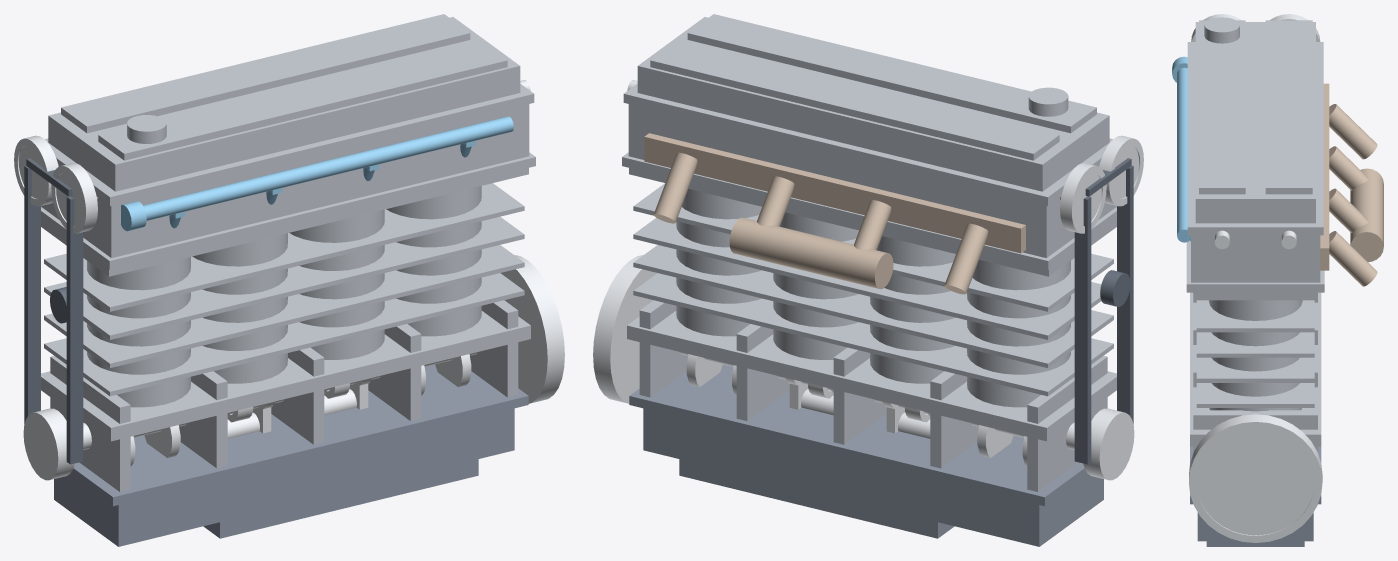
File: autoguard_i4_engine.glb
3 renders of one model, left to right at view 1: azimuth 30°, elevation 25°; view 2: azimuth 150°, elevation 25°; view 3: azimuth 270°, elevation 25°, orthographic. The views are drawn at different scales.
Parts seen in each view (by area): view 1: Engine_Block, Valve_Cover, Oil_Pan, Cylinder_Head, Crankshaft, Timing_Drive_Belt, Fuel_Rail, Camshaft_Intake, Camshaft_Exhaust; view 2: Engine_Block, Valve_Cover, Oil_Pan, Cylinder_Head, Exhaust_Manifold, Crankshaft, Timing_Drive_Belt, Camshaft_Exhaust, Camshaft_Intake; view 3: Valve_Cover, Engine_Block, Crankshaft, Cylinder_Head, Exhaust_Manifold, Fuel_Rail, Oil_Pan, Camshaft_Exhaust, Camshaft_Intake.
Part boxes in pixels (x1,y1,x2,y2): Engine_Block: [41, 168, 530, 491]; Valve_Cover: [48, 14, 520, 191]; Oil_Pan: [54, 364, 528, 546]; Cylinder_Head: [41, 84, 535, 269]; Crankshaft: [23, 255, 564, 480]; Timing_Drive_Belt: [24, 158, 83, 464]; Fuel_Rail: [121, 116, 513, 231]; Camshaft_Intake: [51, 80, 530, 233]; Camshaft_Exhaust: [14, 135, 58, 206]; Engine_Block: [627, 168, 1116, 491]; Valve_Cover: [637, 14, 1109, 191]; Oil_Pan: [629, 364, 1103, 546]; Cylinder_Head: [622, 84, 1116, 269]; Exhaust_Manifold: [644, 133, 1025, 294]; Crankshaft: [593, 255, 1134, 480]; Timing_Drive_Belt: [1074, 158, 1133, 464]; Camshaft_Exhaust: [627, 80, 1106, 233]; Camshaft_Intake: [1099, 135, 1143, 206]; Valve_Cover: [1195, 17, 1315, 223]; Engine_Block: [1190, 292, 1321, 452]; Crankshaft: [1189, 414, 1322, 542]; Cylinder_Head: [1186, 42, 1324, 292]; Exhaust_Manifold: [1320, 83, 1383, 286]; Fuel_Rail: [1172, 56, 1190, 242]; Oil_Pan: [1190, 446, 1321, 546]; Camshaft_Exhaust: [1270, 14, 1320, 249]; Camshaft_Intake: [1191, 14, 1241, 249].
Size of the model in its own units: 4.52 by 3.79 by 1.9.
